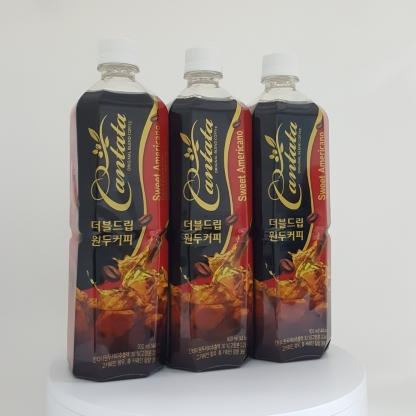-----------900ML: (67, 37, 169, 382), (155, 46, 253, 372), (237, 52, 331, 362)
